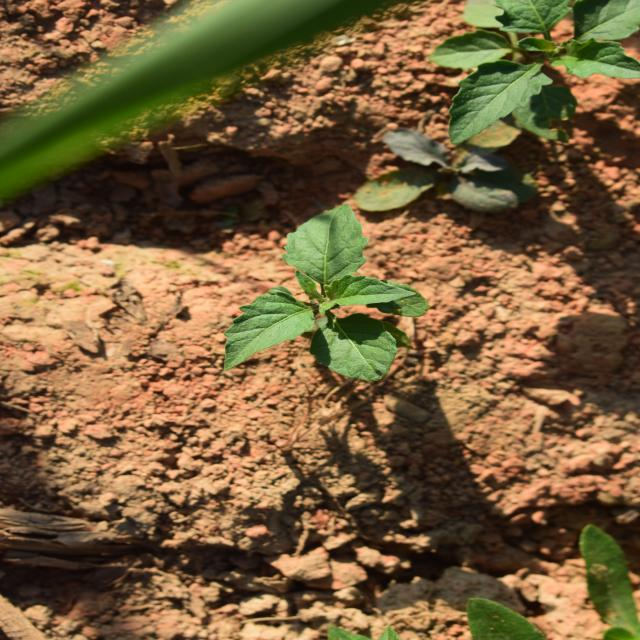Black_nightshade: (214, 219, 385, 425), (0, 2, 147, 208)
